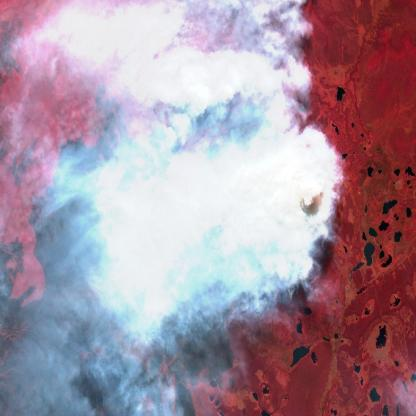fire: (129, 45, 333, 329)
